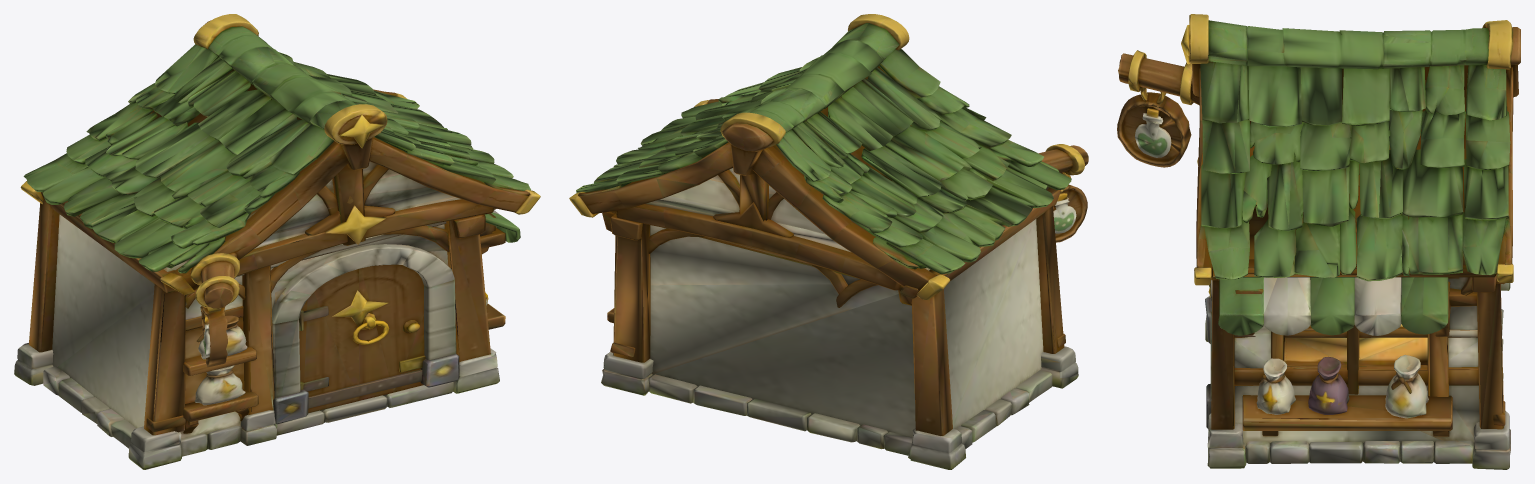
The model's file is general-store.web.glb.
The picture shows the model from 3 angles, left to right: view 1: azimuth 30°, elevation 25°; view 2: azimuth 150°, elevation 25°; view 3: azimuth 270°, elevation 25°; orthographic projection. The views are drawn at different scales.
Visible parts, largest first — view 1: general-store; view 2: general-store; view 3: general-store.
Part boxes in pixels (bbox=[...]): general-store: bbox=[14, 14, 540, 469]; general-store: bbox=[569, 14, 1088, 469]; general-store: bbox=[1117, 14, 1520, 469].
Size of the model in its own units: 6.6 by 5 by 5.
Materials: 1 (1 with a texture image).
